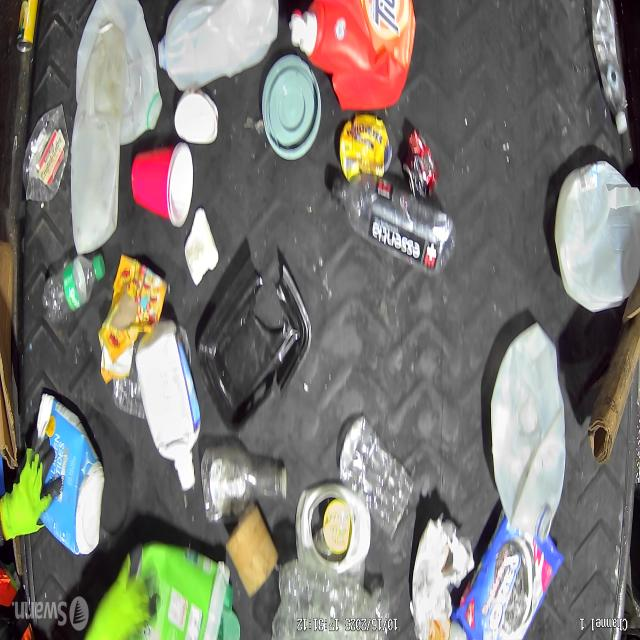can: (220, 503, 280, 592), (398, 122, 436, 206)
milk_jug: (489, 318, 570, 546), (554, 151, 640, 313), (79, 1, 162, 143), (157, 0, 277, 89), (64, 97, 122, 253)
non_white_jug: (286, 0, 419, 118)
plastic_bottle: (327, 167, 454, 287), (590, 0, 631, 139), (36, 250, 104, 316)
